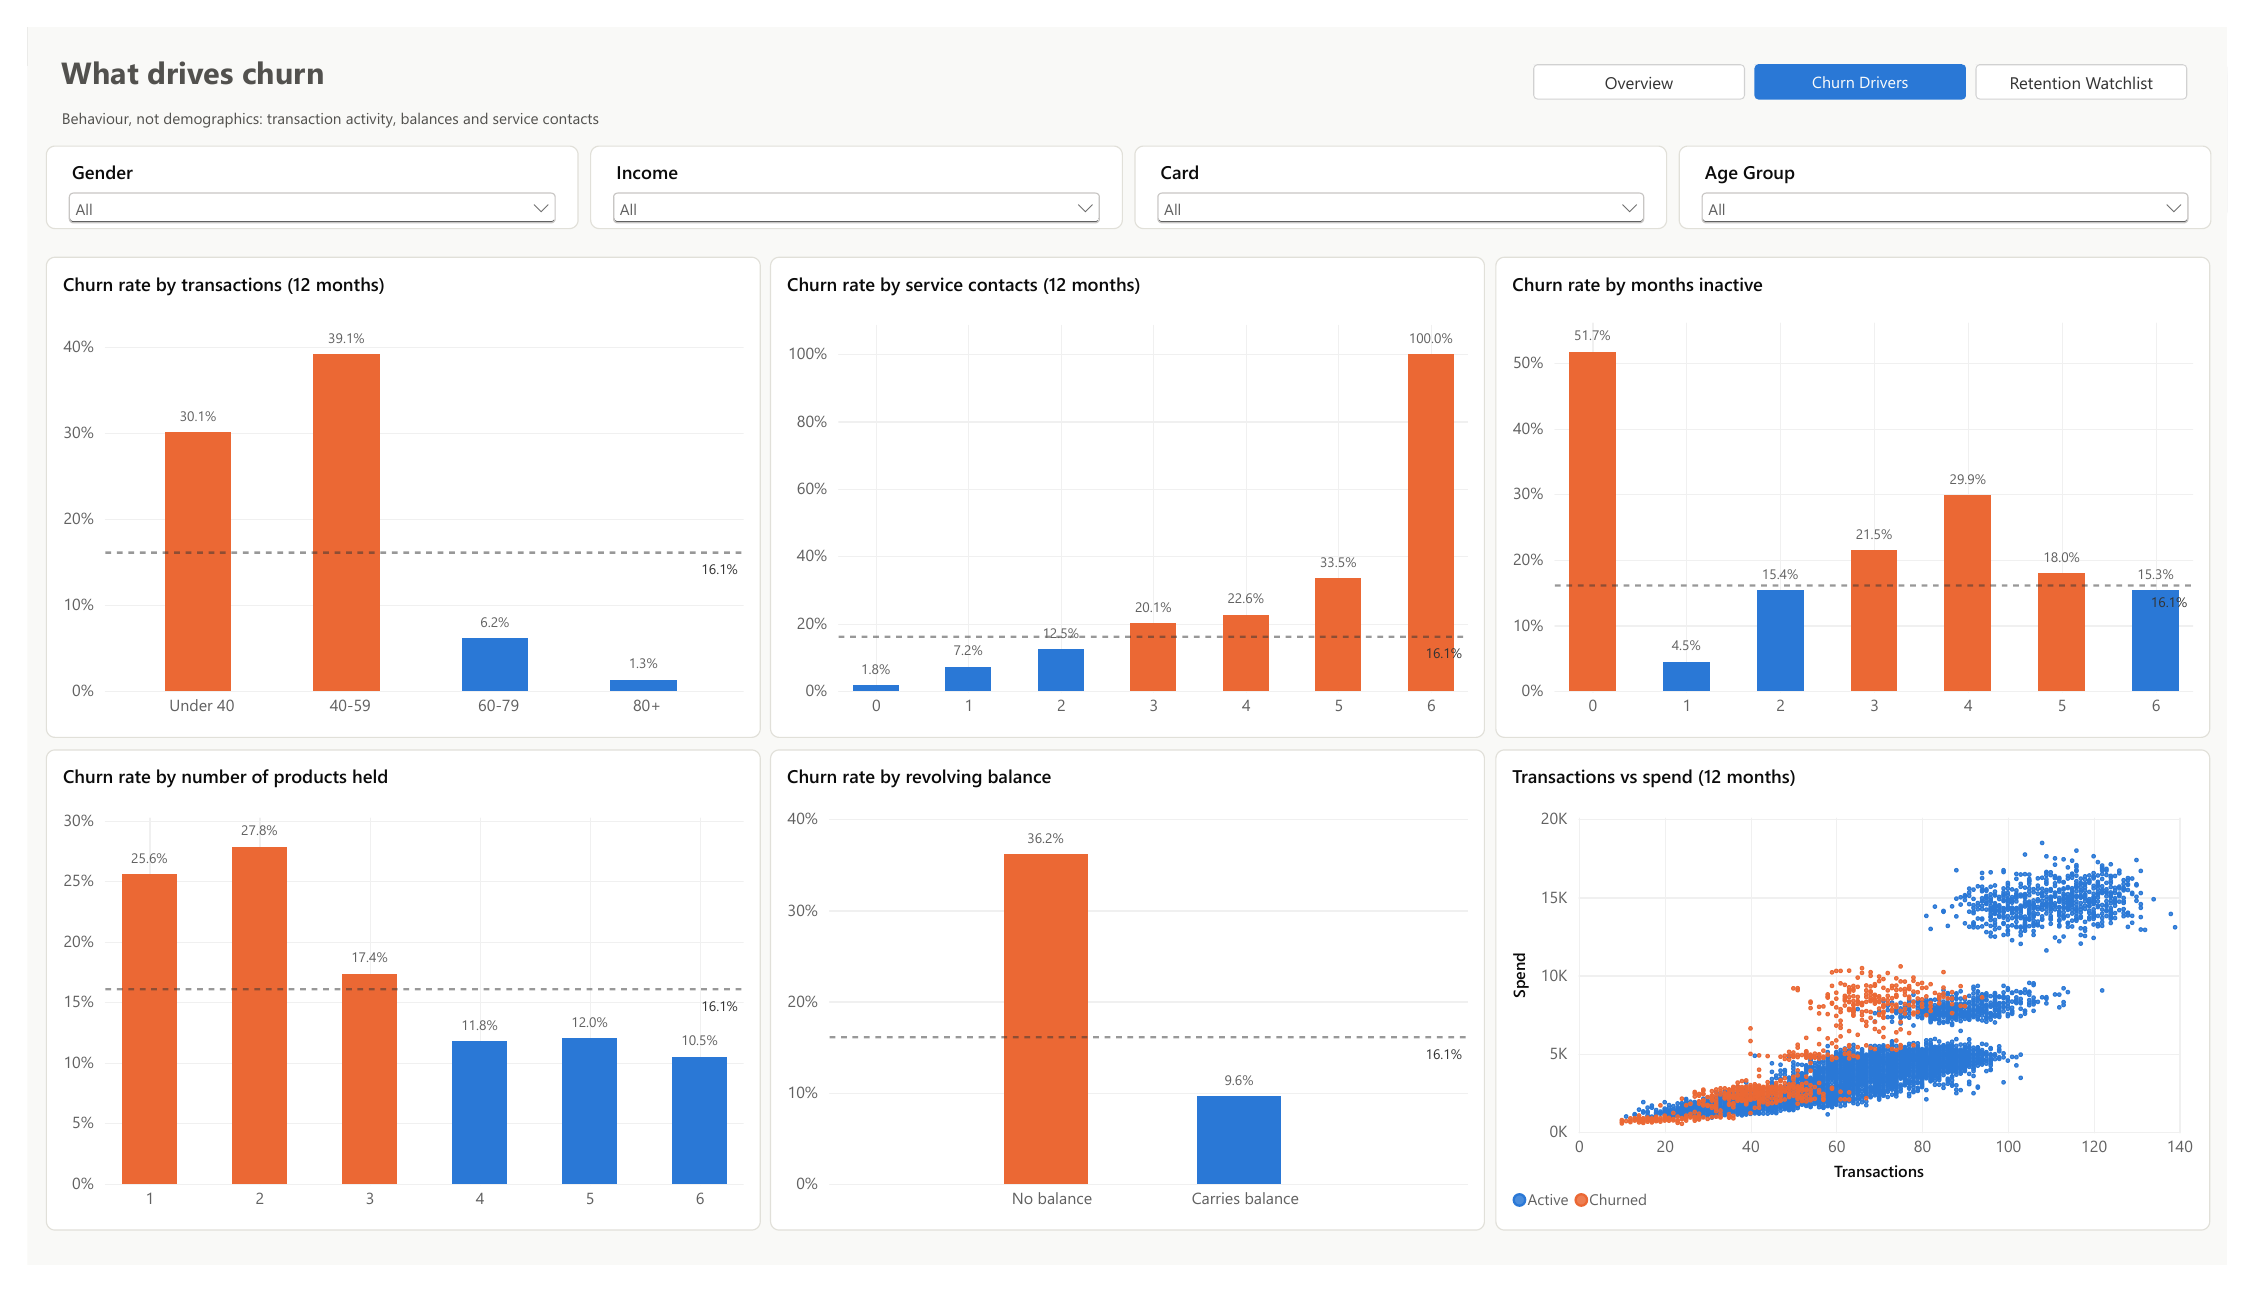

This screenshot's page, from the dashboard's own definition file:
{"tool":"powerbi","page":{"name":"Churn Drivers","canvas":[1920,1080],"ordinal":1},"visuals":[{"type":"textbox","box":[15.8,13,390.4,50.2],"z":0},{"type":"slicer","fields":{"Values":["Customers.Gender"]},"box":[15.8,103,465.6,73.4],"z":1000},{"type":"slicer","fields":{"Values":["Customers.Income_Category"]},"box":[491,103,465,73.4],"z":2000},{"type":"slicer","fields":{"Values":["Customers.Card_Category"]},"box":[966,103,465,73.4],"z":3000},{"type":"slicer","fields":{"Values":["Customers.Age Group"]},"box":[1441,103,465,73.4],"z":4000},{"type":"textbox","box":[15.8,63.2,500,33.5],"z":5000},{"type":"clusteredColumnChart","title":"Churn rate by transactions (12 months)","fields":{"Category":["Customers.Txn Count Band"],"Y":["_Measures.Churn Rate"]},"box":[16,200,624,420],"z":6000},{"type":"clusteredColumnChart","title":"Churn rate by service contacts (12 months)","fields":{"Category":["Customers.Contacts_Count_12_mon"],"Y":["_Measures.Churn Rate"]},"box":[648,200,624,420],"z":7000},{"type":"clusteredColumnChart","title":"Churn rate by months inactive","fields":{"Category":["Customers.Months_Inactive_12_mon"],"Y":["_Measures.Churn Rate"]},"box":[1280.8,200,624,420],"z":8000},{"type":"clusteredColumnChart","title":"Churn rate by number of products held","fields":{"Category":["Customers.Total_Relationship_Count"],"Y":["_Measures.Churn Rate"]},"box":[16,630,624,420],"z":9000},{"type":"clusteredColumnChart","title":"Churn rate by revolving balance","fields":{"Category":["Customers.Carries Balance"],"Y":["_Measures.Churn Rate"]},"box":[648,630,624,420],"z":10000},{"type":"scatterChart","title":"Transactions vs spend (12 months)","fields":{"Category":["Customers.CLIENTNUM"],"Series":["Customers.Status"],"X":["Sum(Customers.Total_Trans_Ct)"],"Y":["Sum(Customers.Total_Trans_Amt)"]},"box":[1281,630,624,420],"z":11000},{"type":"pageNavigator","box":[1300,20,600,55],"z":12000}]}

Visuals, with their boxes in screenshot pixels (x1, y1, x2, y2), scaled from the page's 1920x1080 canvas onto the 2255x1293 screenshot:
textbox: <region>19, 16, 477, 76</region>
slicer - Customers.Gender: <region>19, 123, 565, 211</region>
slicer - Customers.Income_Category: <region>577, 123, 1123, 211</region>
slicer - Customers.Card_Category: <region>1135, 123, 1681, 211</region>
slicer - Customers.Age Group: <region>1692, 123, 2239, 211</region>
textbox: <region>19, 76, 606, 116</region>
"Churn rate by transactions (12 months)" clusteredColumnChart: <region>19, 239, 752, 742</region>
"Churn rate by service contacts (12 months)" clusteredColumnChart: <region>761, 239, 1494, 742</region>
"Churn rate by months inactive" clusteredColumnChart: <region>1504, 239, 2237, 742</region>
"Churn rate by number of products held" clusteredColumnChart: <region>19, 754, 752, 1257</region>
"Churn rate by revolving balance" clusteredColumnChart: <region>761, 754, 1494, 1257</region>
"Transactions vs spend (12 months)" scatterChart: <region>1505, 754, 2237, 1257</region>
pageNavigator: <region>1527, 24, 2232, 90</region>
